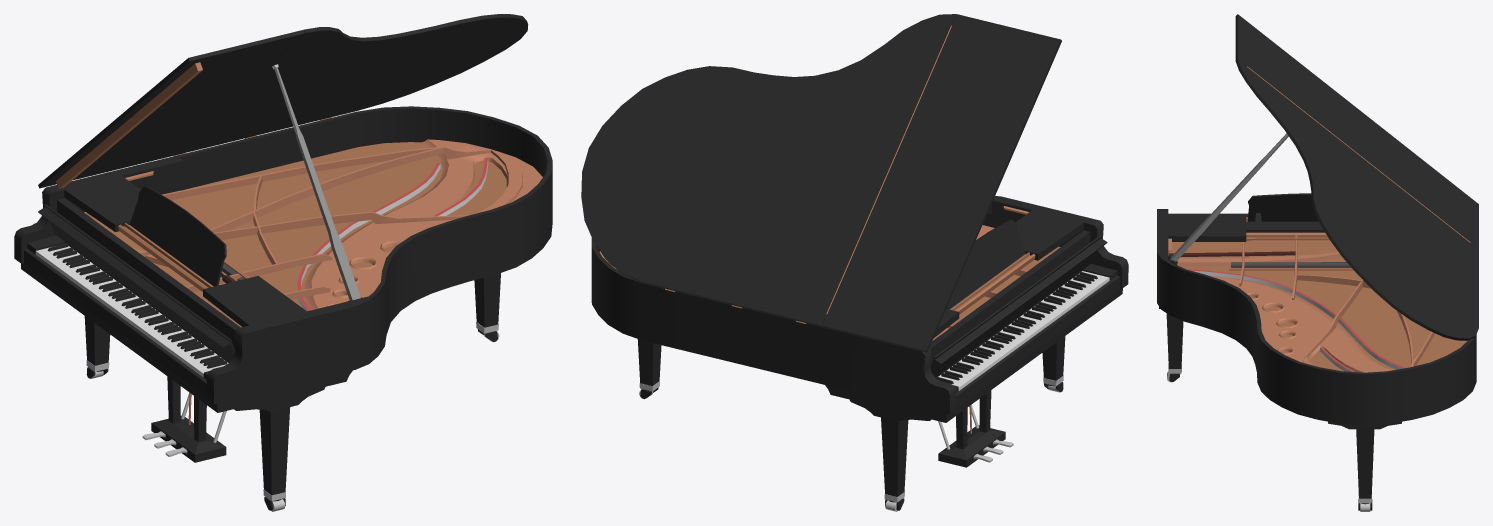
The picture shows the model from 3 angles, left to right: view 1: azimuth 30°, elevation 25°; view 2: azimuth 150°, elevation 25°; view 3: azimuth 270°, elevation 25°; orthographic projection. The views are drawn at different scales.
Visible parts, largest first — view 1: 0GrPiano, 1RoofMain, RoofAdd, Paper1, 2Close, 3Stick; view 2: 1RoofMain, 0GrPiano, RoofAdd, 2Close, Paper1; view 3: 0GrPiano, 1RoofMain, RoofAdd, Paper1, 3Stick, Paper2.
Part boxes in pixels (<box>): 0GrPiano: <box>14,106,552,501</box>; 1RoofMain: <box>156,14,528,159</box>; RoofAdd: <box>38,29,305,188</box>; Paper1: <box>129,186,226,286</box>; 2Close: <box>38,204,235,362</box>; 3Stick: <box>274,67,360,300</box>; 1RoofMain: <box>581,14,956,326</box>; 0GrPiano: <box>591,196,1128,502</box>; RoofAdd: <box>822,14,1061,352</box>; 2Close: <box>930,235,1107,377</box>; Paper1: <box>946,219,1025,309</box>; 0GrPiano: <box>1157,209,1476,503</box>; 1RoofMain: <box>1236,60,1478,340</box>; RoofAdd: <box>1235,14,1478,249</box>; Paper1: <box>1246,193,1318,221</box>; 3Stick: <box>1170,133,1288,261</box>; Paper2: <box>1246,213,1323,230</box>.
Size of the model in its own units: 1.99 by 1.82 by 1.53.
